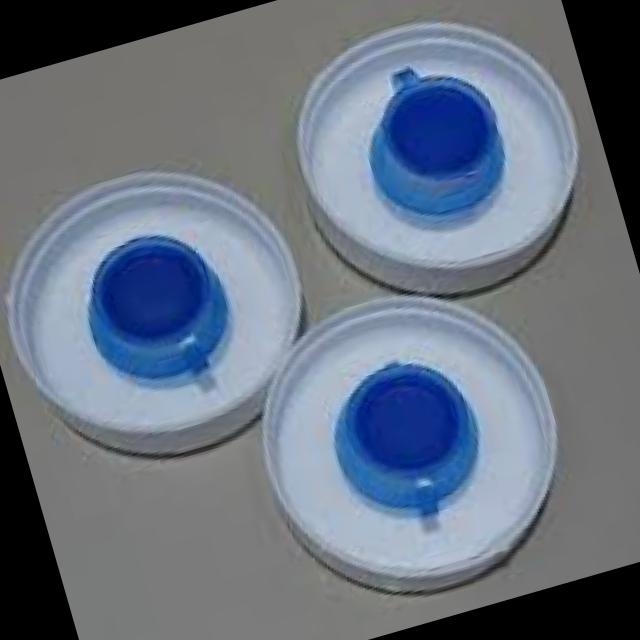Kardus: (216, 254, 598, 631), (0, 123, 344, 493), (251, 0, 619, 331)
